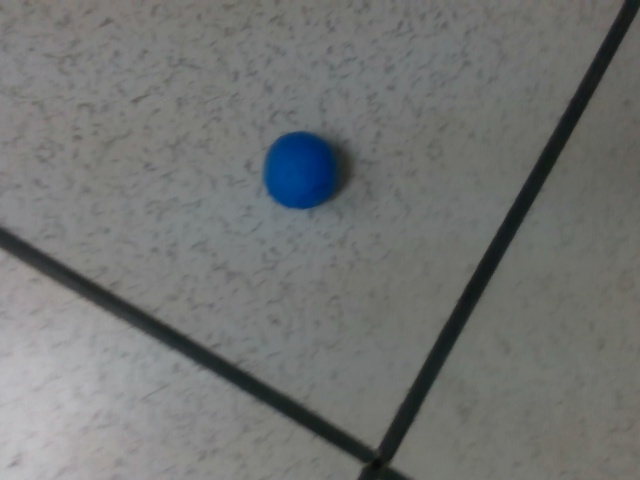blueball: (262, 131, 339, 209)
